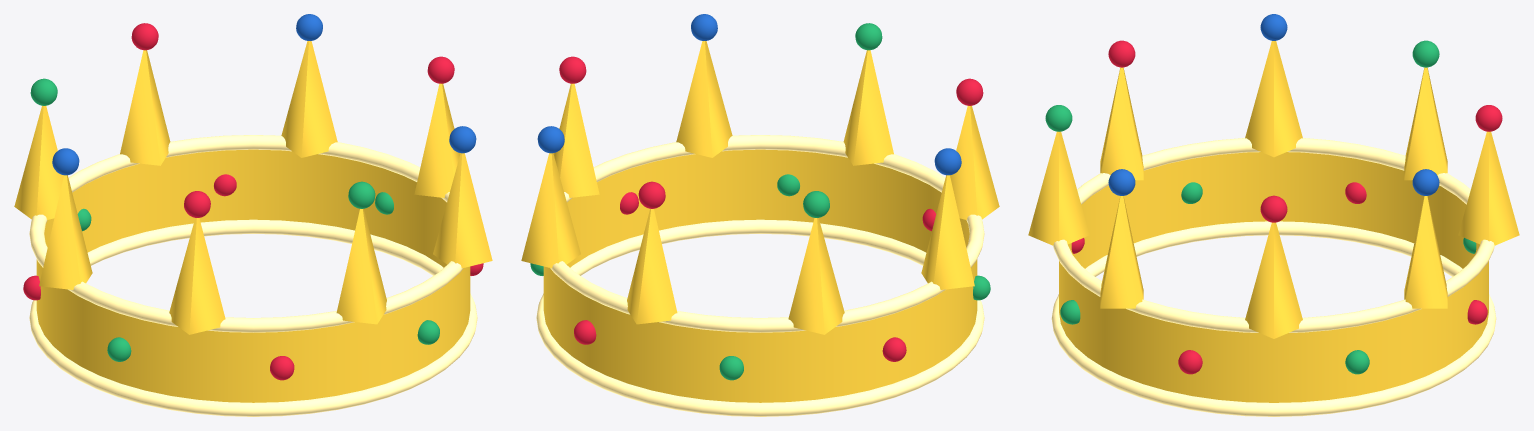
The model's file is gold-crown.glb.
The picture shows the model from 3 angles, left to right: view 1: azimuth 30°, elevation 25°; view 2: azimuth 150°, elevation 25°; view 3: azimuth 270°, elevation 25°; orthographic projection.
Parts seen in each view (by area): view 1: RoyalCrown; view 2: RoyalCrown; view 3: RoyalCrown.
Part boxes in pixels (x1=…): RoyalCrown: x1=14, y1=14, x2=492, y2=416; RoyalCrown: x1=521, y1=14, x2=999, y2=416; RoyalCrown: x1=1028, y1=14, x2=1519, y2=416.
Bounding box in the file's own units: 8 × 3.94 × 8.
